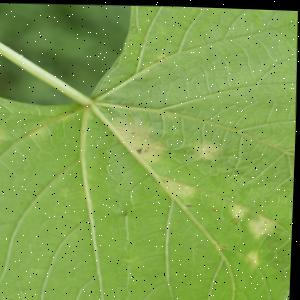Folha: (0, 0, 300, 300)
Fungo: (106, 115, 171, 164), (227, 199, 280, 237), (246, 210, 280, 237), (161, 176, 198, 196), (190, 137, 223, 159), (228, 200, 248, 223), (27, 122, 53, 139), (245, 247, 262, 263), (0, 120, 9, 148), (153, 53, 167, 59), (218, 239, 229, 245), (234, 215, 241, 223), (136, 146, 144, 152), (186, 201, 194, 205), (213, 206, 219, 211), (127, 254, 133, 258)
